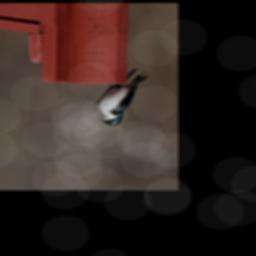Swallow: (94, 68, 149, 128)
